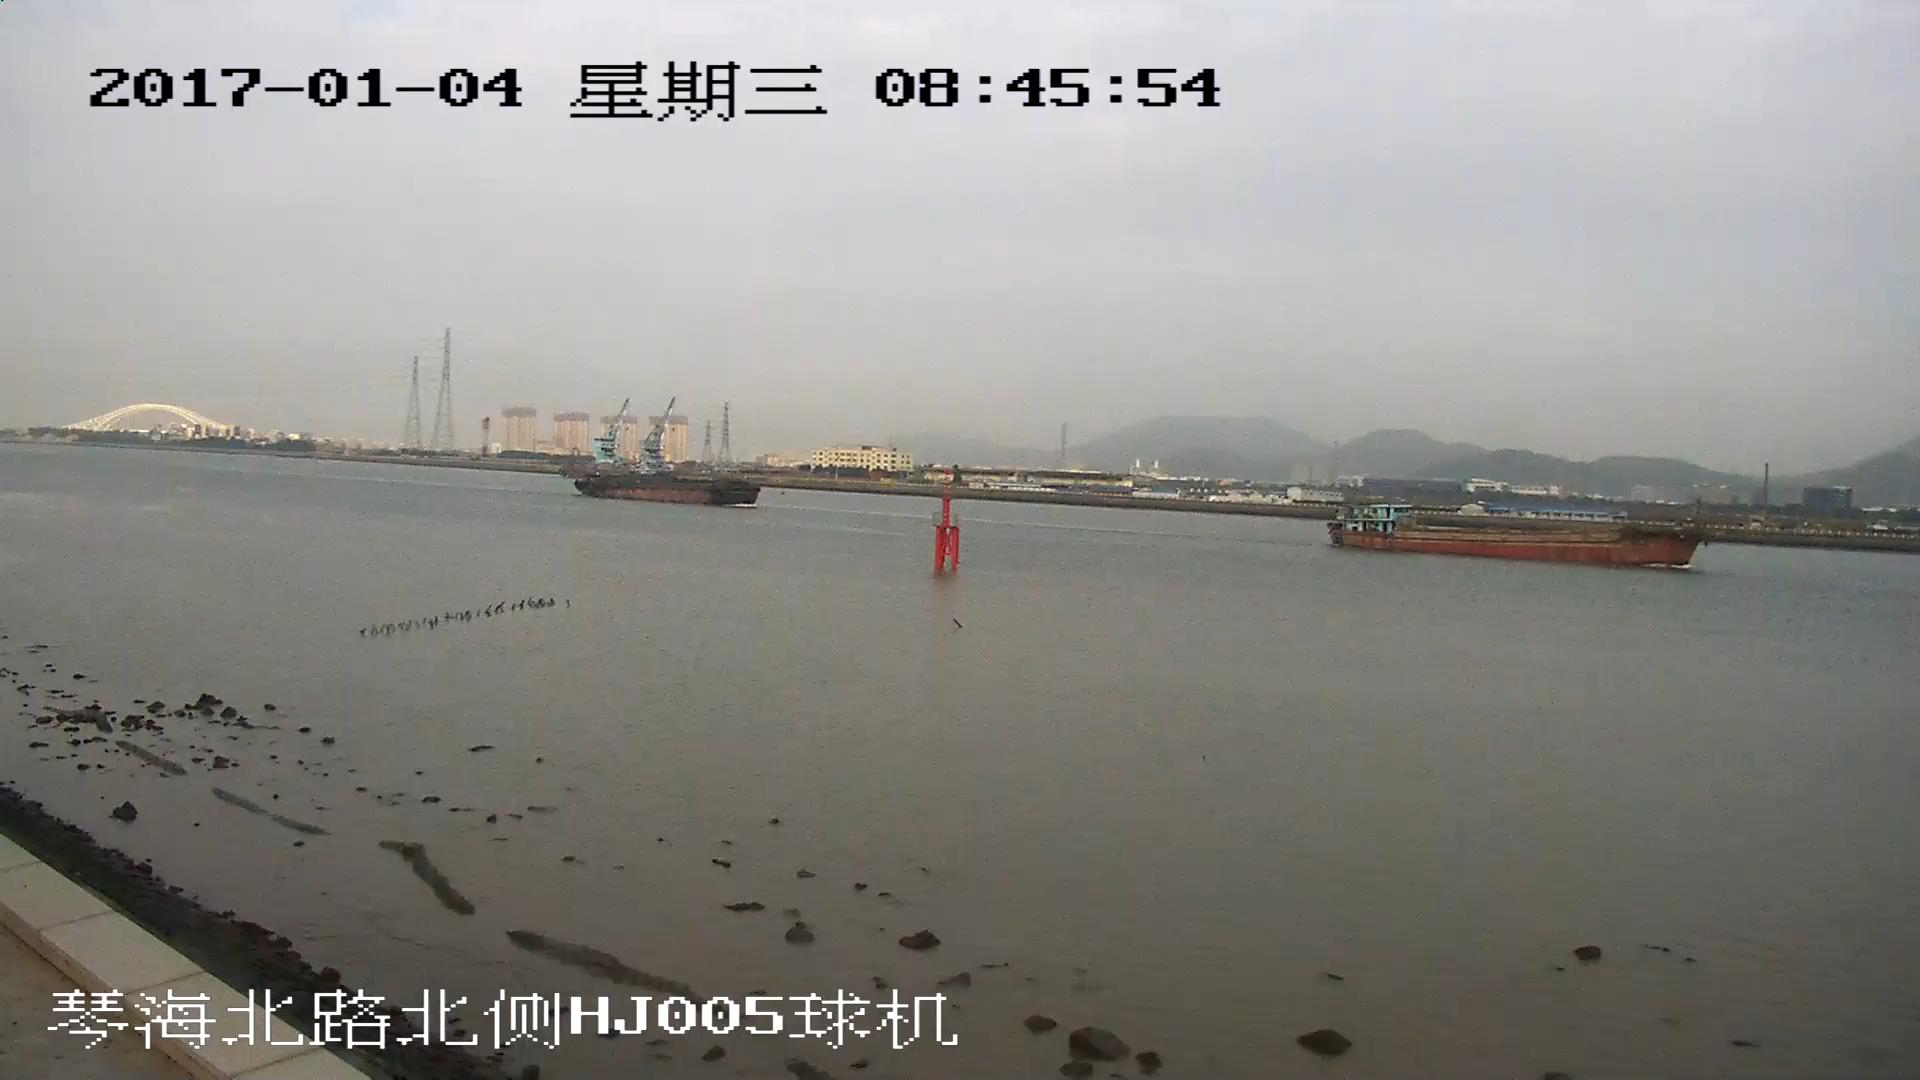bulk cargo carrier: (1331, 502, 1699, 563), (572, 465, 756, 503)
